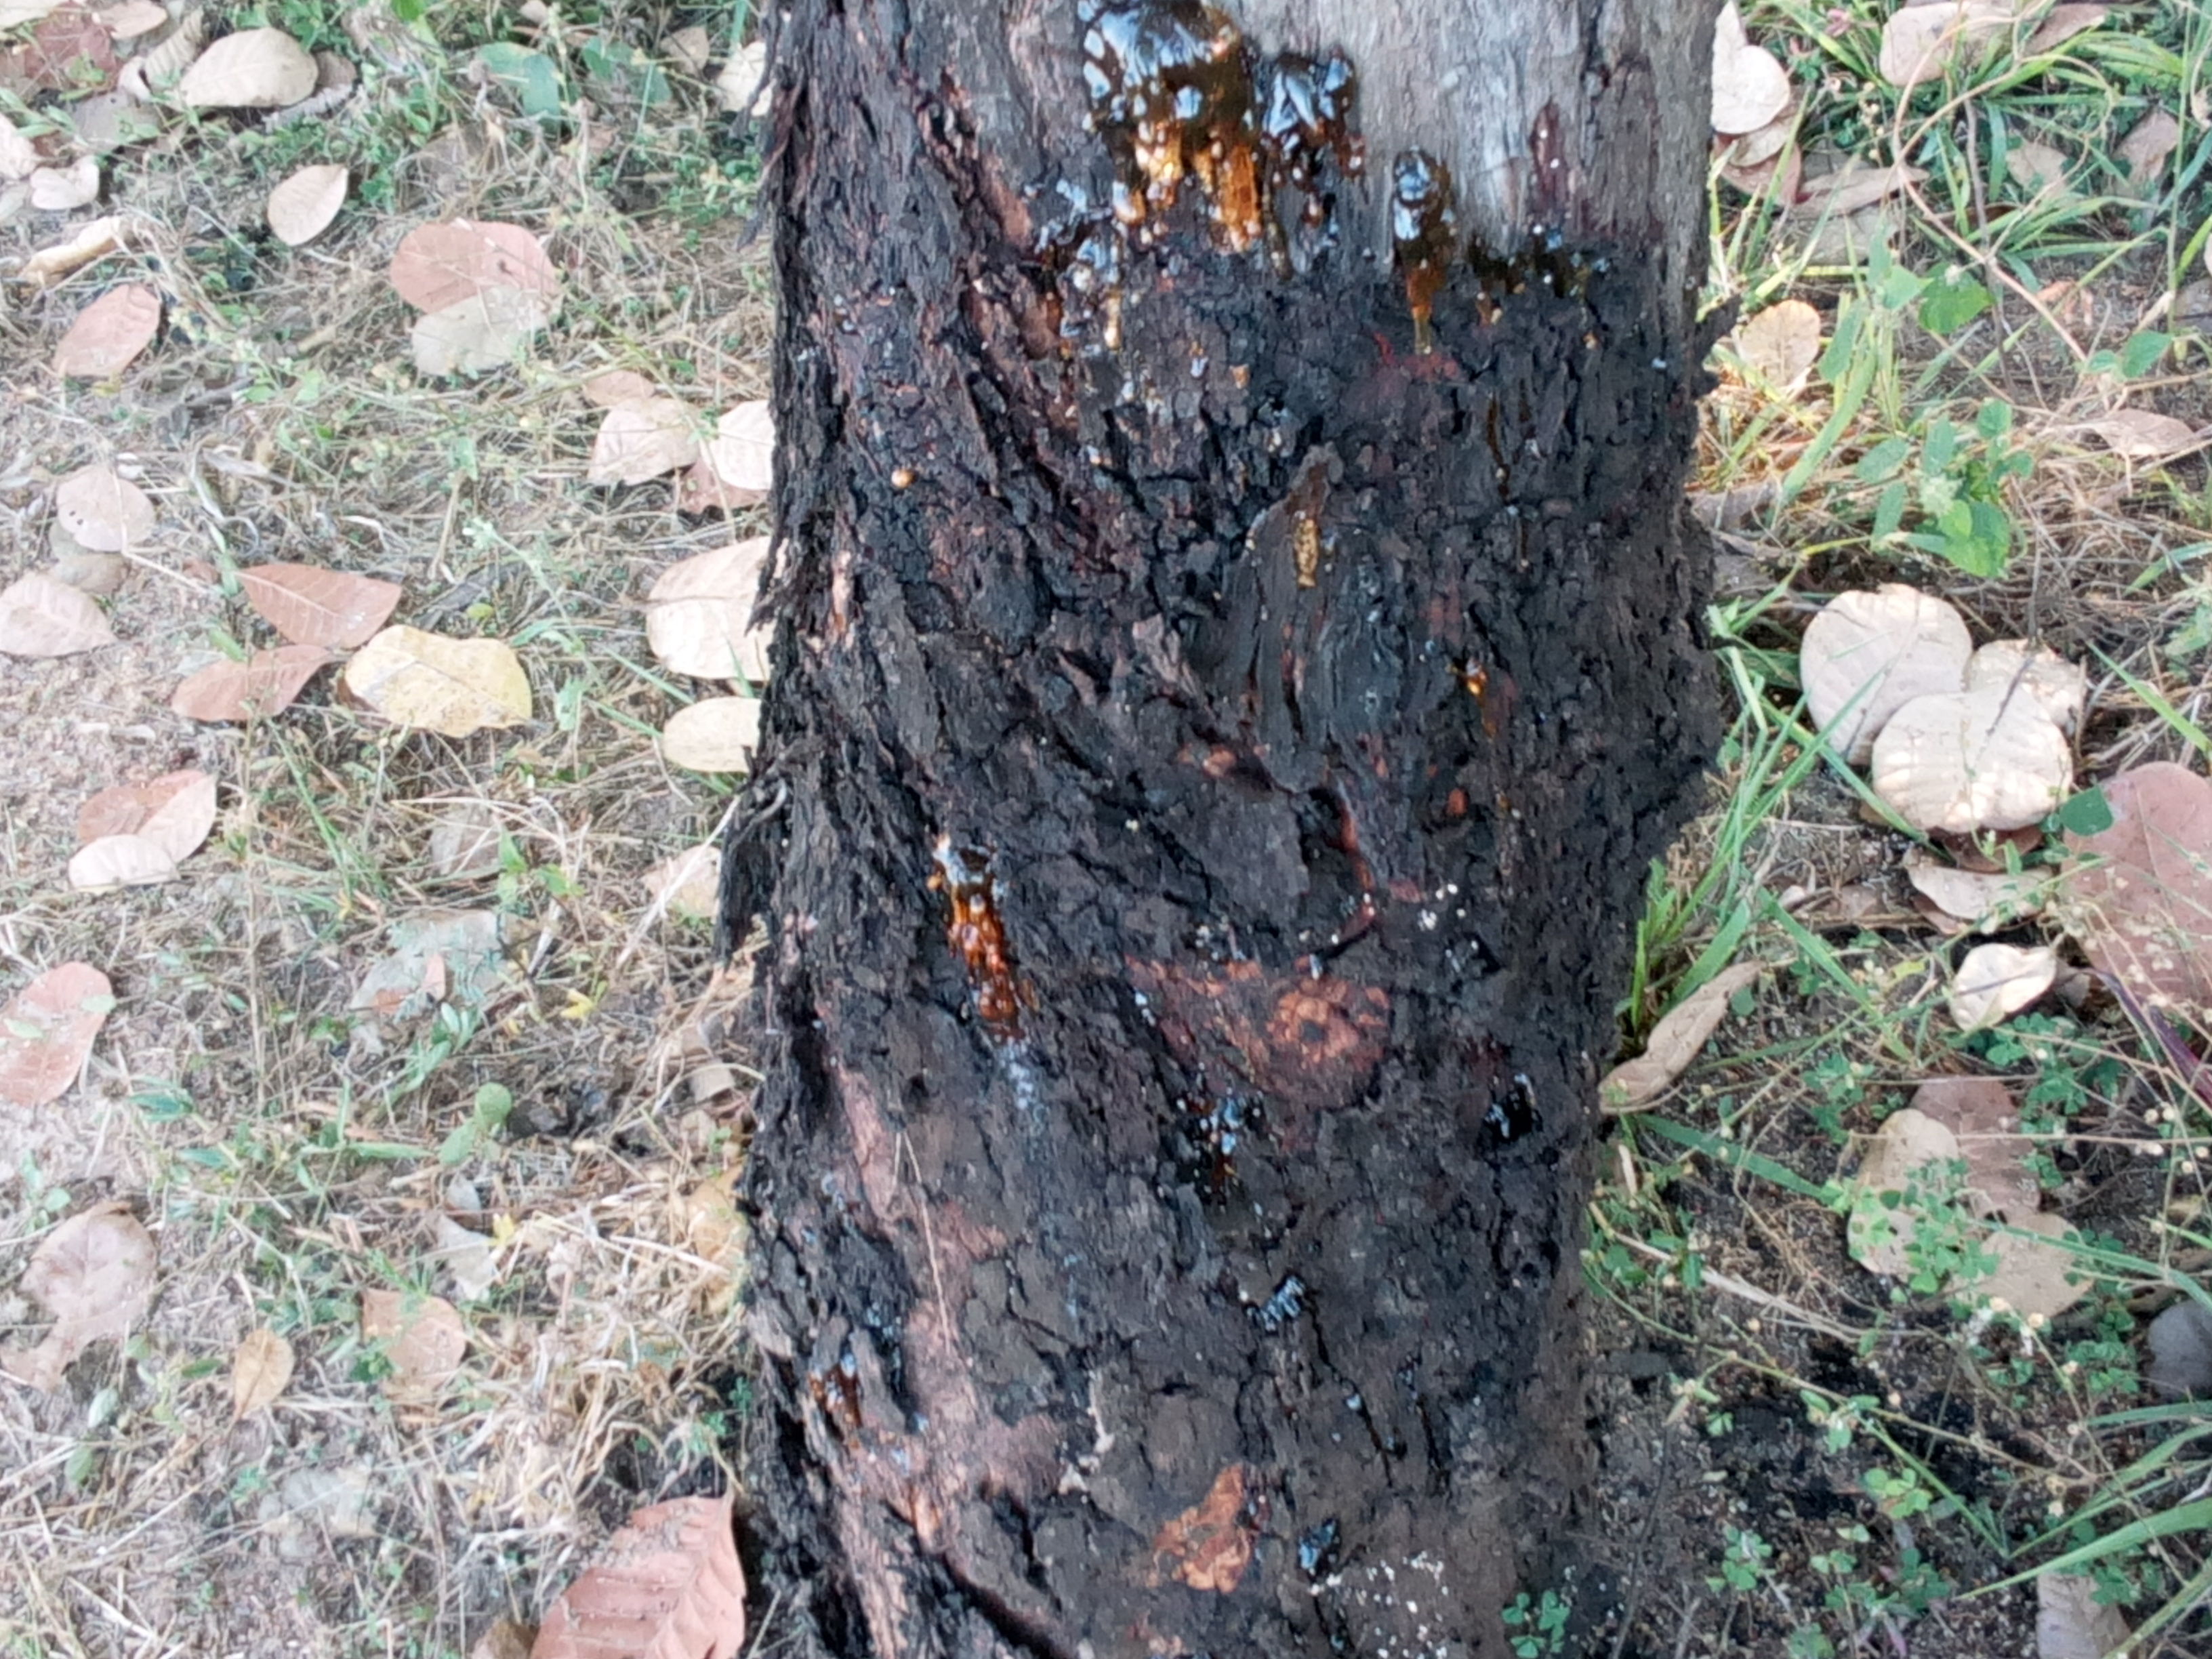Gommose: (766, 24, 1716, 1586)
